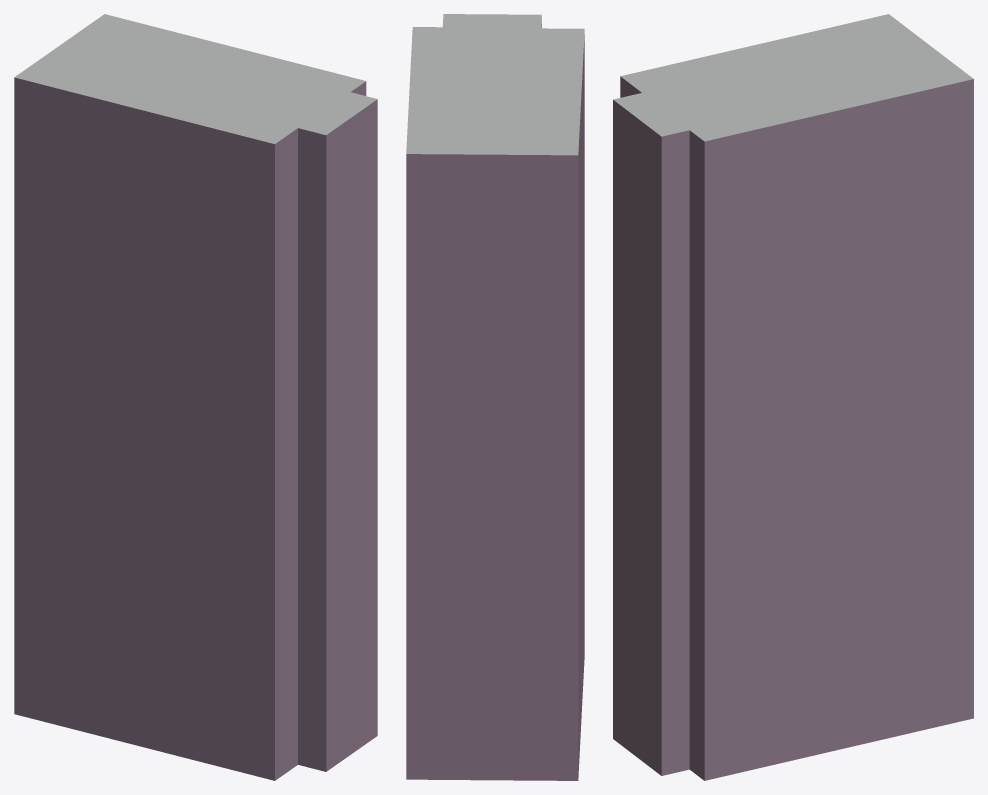
Rendered from nyc-1088833-0.glb.
The picture shows the model from 3 angles, left to right: view 1: azimuth 30°, elevation 25°; view 2: azimuth 150°, elevation 25°; view 3: azimuth 270°, elevation 25°; orthographic projection. The views are drawn at different scales.
Visible parts, largest first — view 1: nyc-1088833-0; view 2: nyc-1088833-0; view 3: nyc-1088833-0.
Boxes of the visible parts, bbox=[...] form: nyc-1088833-0: bbox=[14, 14, 377, 780]; nyc-1088833-0: bbox=[406, 14, 584, 780]; nyc-1088833-0: bbox=[613, 14, 973, 780].
Bounding box in the file's own units: 51.26 × 120 × 61.28.
